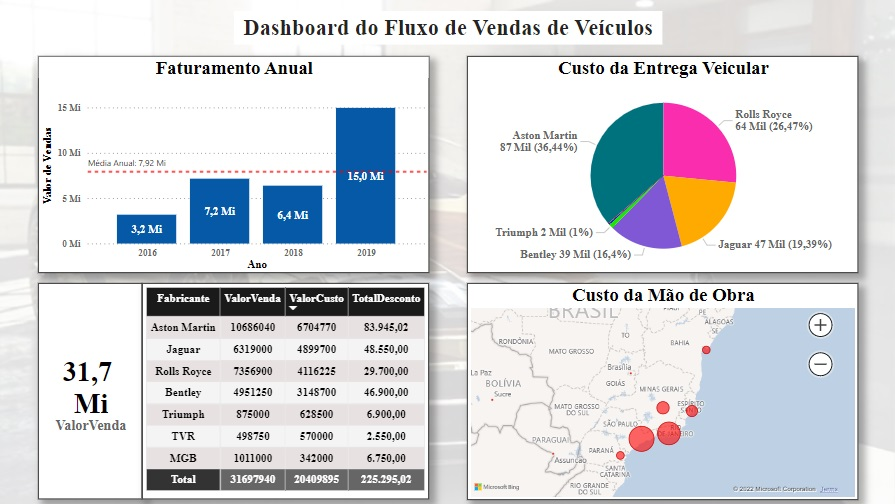

Layout of this report page (visuals, bound fields, positions):
{"tool":"powerbi","page":{"name":"Dashboard de Vendas","canvas":[1280,720],"ordinal":0},"visuals":[{"type":"clusteredColumnChart","title":"Faturamento Anual","fields":{"Y":["Sum(VendaCarros.ValorVenda)"],"Category":["VendaCarros.Ano"]},"box":[53.8,79.6,558.7,309.6],"z":0},{"type":"pieChart","title":"Custo da Entrega Veicular","fields":{"Category":["VendaCarros.Fabricante"],"Y":["Sum(VendaCarros.CustoEntrega)"]},"box":[667.3,79.6,558.7,309.6],"z":1000},{"type":"map","title":"Custo da Mão de Obra","fields":{"Size":["Sum(VendaCarros.CustoMaoDeObra)"],"Category":["VendaCarros.Estado"]},"box":[667.3,403.6,558.7,309.6],"z":2000},{"type":"card","fields":{"Values":["Sum(VendaCarros.ValorVenda)"]},"box":[54.3,404.3,148.6,308.6],"z":3000},{"type":"pivotTable","fields":{"Rows":["VendaCarros.Fabricante"],"Values":["Sum(VendaCarros.ValorVenda)","Sum(VendaCarros.ValorCusto)","Sum(VendaCarros.TotalDesconto)"]},"box":[202.9,404.3,410,308.6],"z":4000},{"type":"textbox","box":[333.8,15.4,612.3,47.7],"z":5000}]}

Visuals, with their boxes in screenshot pixels (x1, y1, x2, y2), scaled from the page's 1280x720 canvas onto the 895x504 screenshot:
"Faturamento Anual" clusteredColumnChart: detection(38, 56, 428, 272)
"Custo da Entrega Veicular" pieChart: detection(467, 56, 857, 272)
"Custo da Mão de Obra" map: detection(467, 283, 857, 499)
card - Sum(VendaCarros.ValorVenda): detection(38, 283, 142, 499)
pivotTable - VendaCarros.Fabricante x Sum(VendaCarros.ValorVenda): detection(142, 283, 429, 499)
textbox: detection(233, 11, 662, 44)
